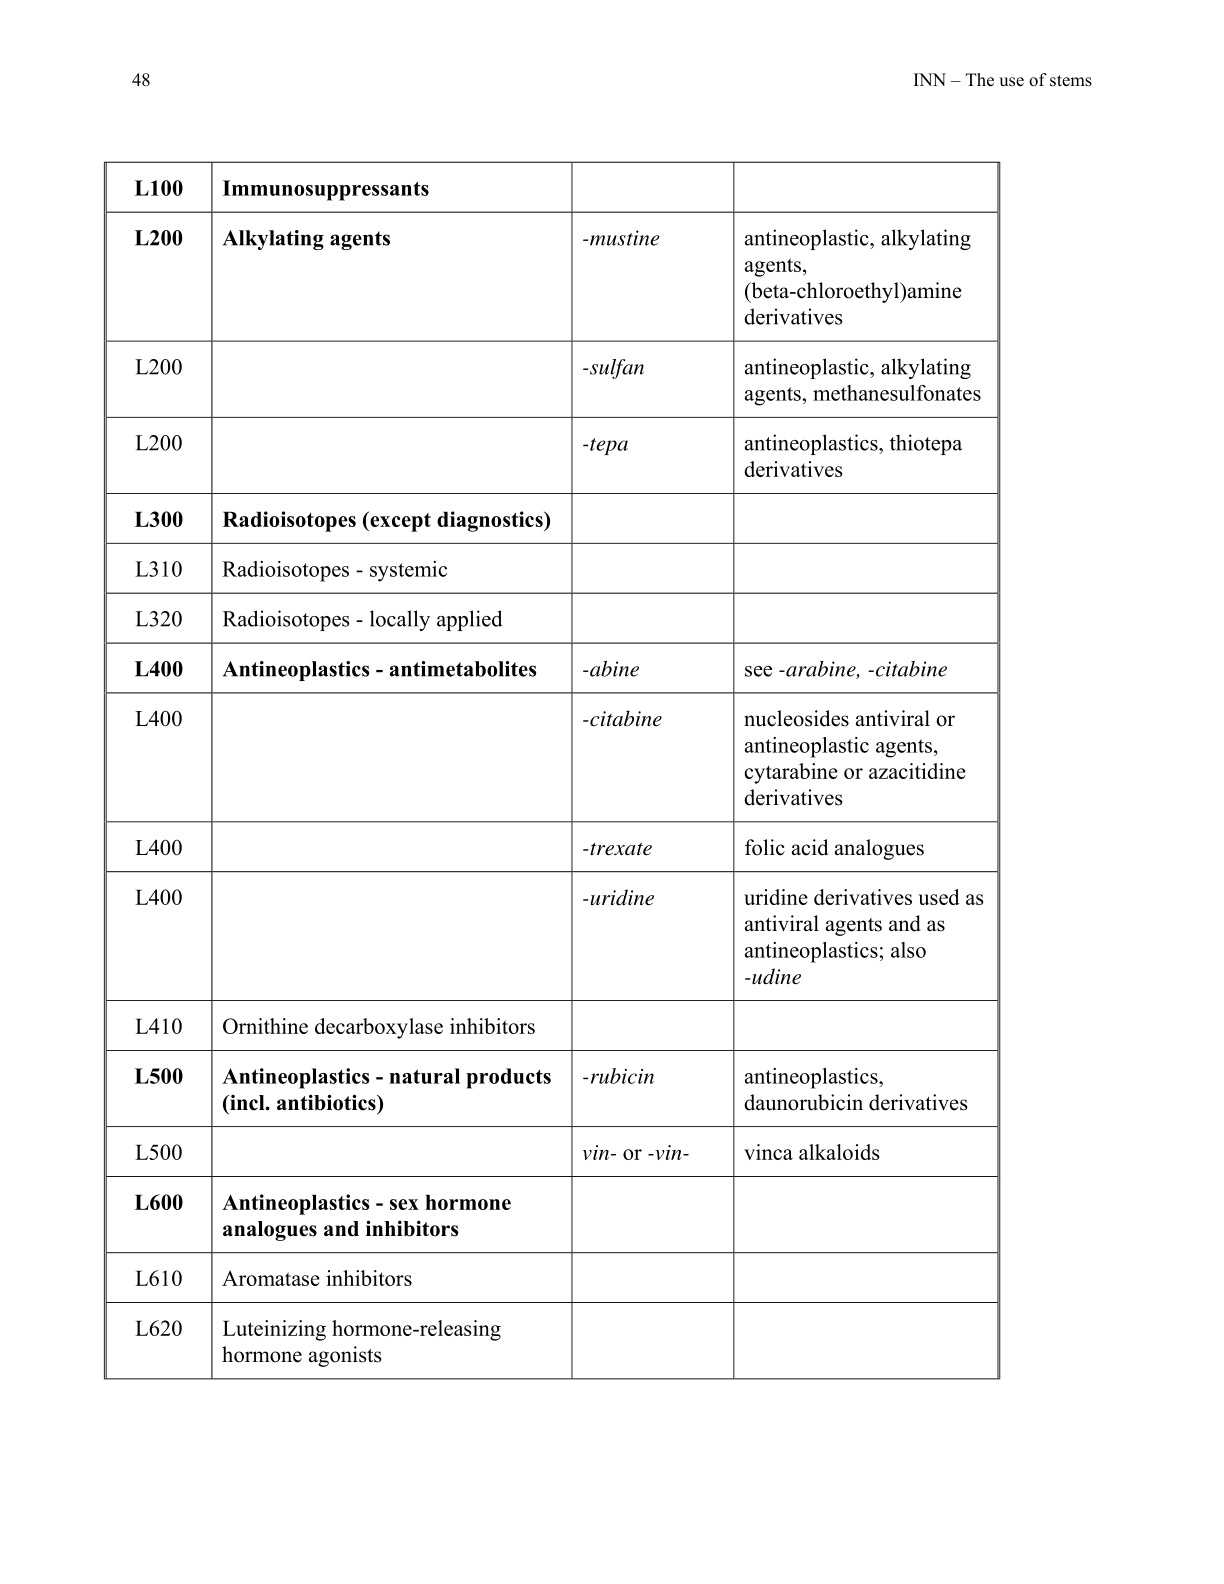full_lined: (102, 159, 1002, 1380)
